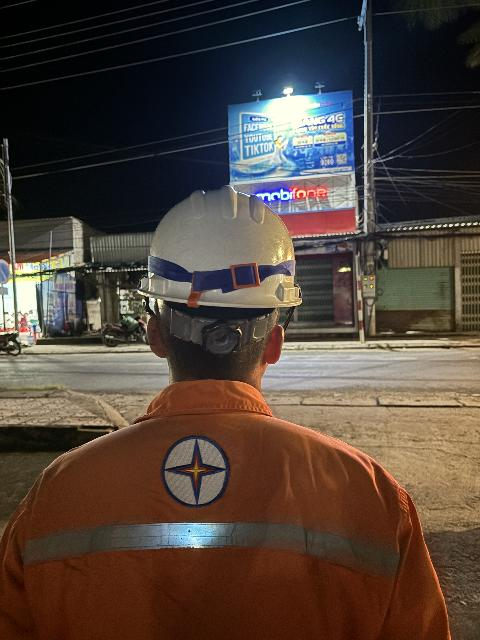helmet: (123, 189, 313, 327)
